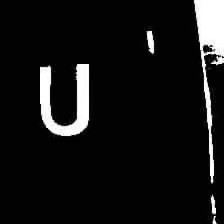LTR_U: (31, 53, 98, 145)
